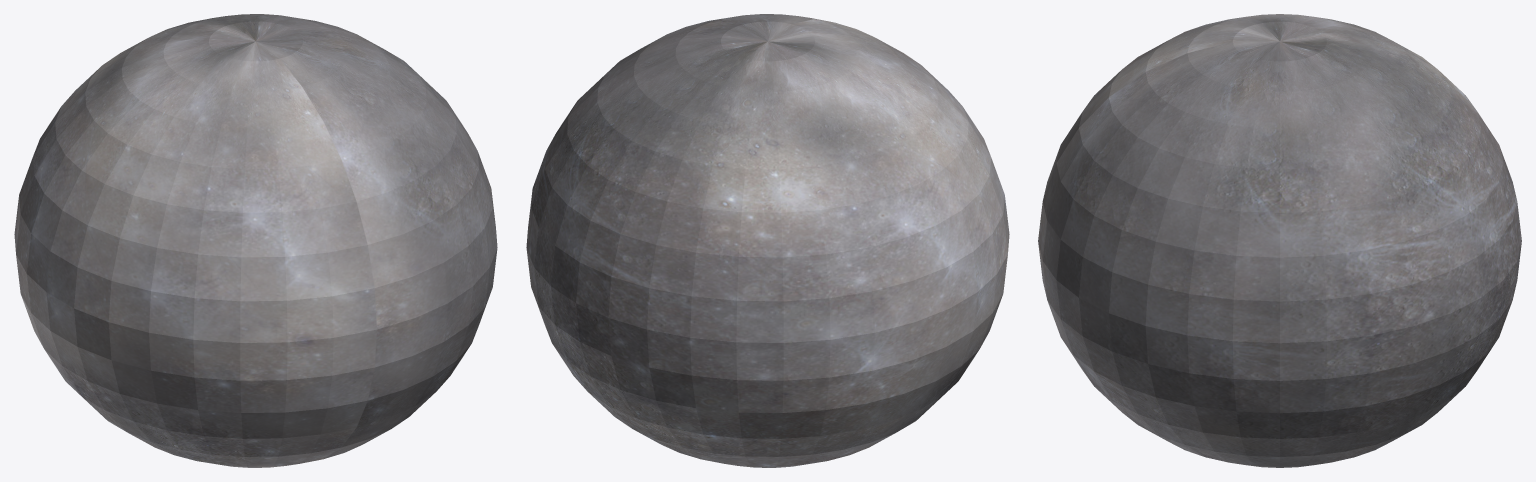
Rendered from mercury.obj.
The picture shows the model from 3 angles, left to right: view 1: azimuth 30°, elevation 25°; view 2: azimuth 150°, elevation 25°; view 3: azimuth 270°, elevation 25°; orthographic projection.
Parts seen in each view (by area): view 1: Sphere_Sphere.001; view 2: Sphere_Sphere.001; view 3: Sphere_Sphere.001.
Boxes of the visible parts, <box> form: Sphere_Sphere.001: <box>14,14,497,467</box>; Sphere_Sphere.001: <box>526,14,1009,467</box>; Sphere_Sphere.001: <box>1038,14,1521,467</box>.
Size of the model in its own units: 2 by 1.82 by 2.
1 material, 1 textured.
